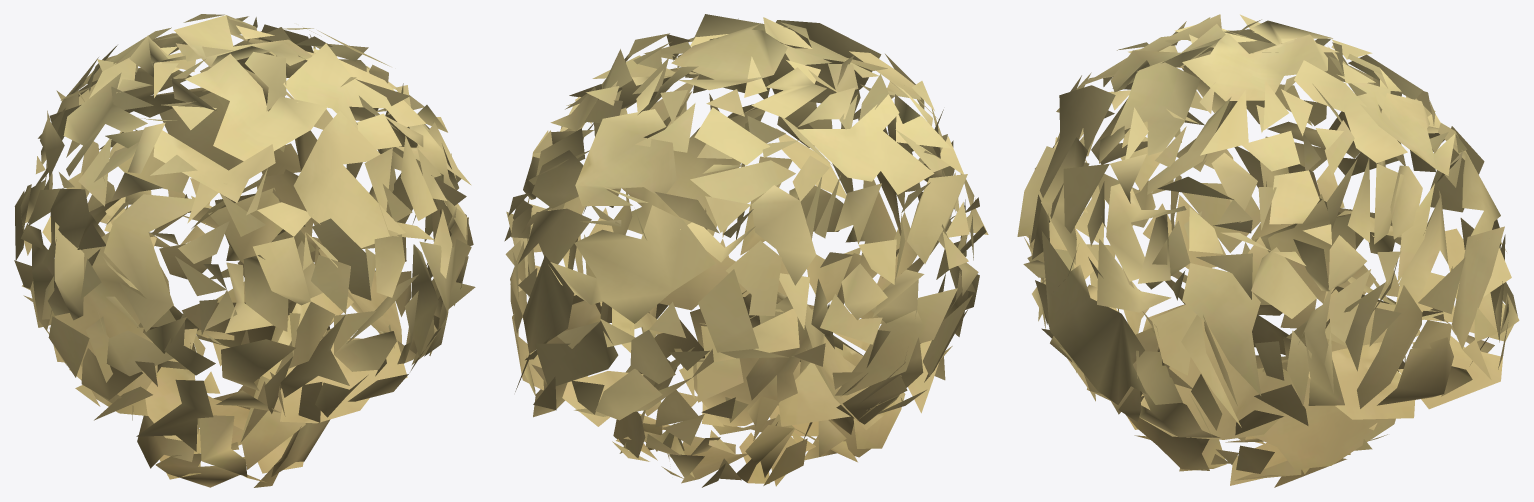
Rendered from brain_coral_lo.glb.
3 renders of one model, left to right at view 1: azimuth 30°, elevation 25°; view 2: azimuth 150°, elevation 25°; view 3: azimuth 270°, elevation 25°, orthographic.
Parts seen in each view (by area): view 1: brain_coral_far; view 2: brain_coral_far; view 3: brain_coral_far.
Boxes of the visible parts, x1=… form: brain_coral_far: x1=14, y1=14, x2=475, y2=487; brain_coral_far: x1=504, y1=14, x2=988, y2=487; brain_coral_far: x1=1017, y1=14, x2=1519, y2=487.
Bounding box in the file's own units: 0.3325 × 0.3247 × 0.3495.
Materials: 1 (1 with a texture image).
